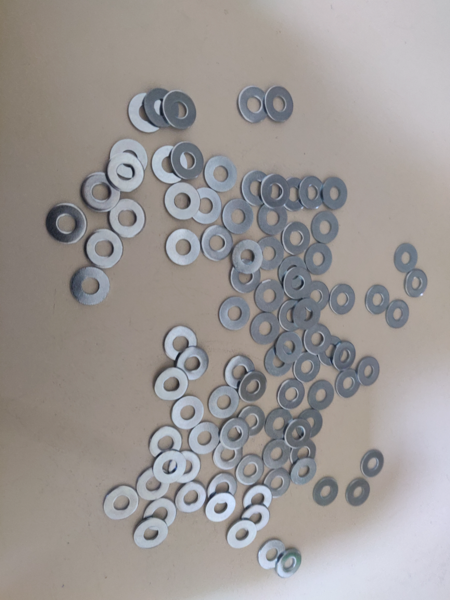circle: (45, 203, 88, 246), (80, 172, 122, 213), (107, 139, 148, 179), (108, 197, 147, 239), (84, 230, 124, 270), (70, 267, 110, 307), (128, 93, 165, 133), (164, 182, 201, 222), (161, 92, 198, 131), (106, 156, 145, 193), (145, 88, 180, 129), (169, 143, 205, 181), (165, 229, 201, 267), (102, 486, 140, 522), (173, 347, 210, 383), (162, 326, 199, 362), (153, 146, 188, 184), (141, 497, 179, 532), (134, 468, 172, 502), (170, 396, 205, 432), (148, 426, 184, 461), (241, 170, 274, 208), (189, 189, 223, 225), (252, 278, 286, 314), (253, 236, 287, 272), (153, 368, 189, 402), (167, 451, 203, 485), (237, 87, 270, 124), (205, 156, 238, 193), (231, 239, 264, 276), (200, 227, 234, 262), (260, 468, 294, 503), (218, 297, 251, 333), (132, 518, 169, 550), (188, 422, 222, 456), (152, 451, 186, 485), (256, 203, 291, 236), (277, 256, 310, 291), (259, 174, 291, 210), (263, 87, 294, 124), (225, 519, 259, 552), (222, 200, 254, 235), (280, 176, 310, 213), (261, 438, 294, 471), (281, 222, 313, 256), (301, 323, 333, 357), (222, 355, 254, 389), (264, 409, 296, 443), (174, 482, 208, 514), (310, 212, 342, 245), (242, 483, 274, 516), (208, 387, 240, 420), (235, 454, 267, 487), (207, 472, 239, 505), (230, 261, 261, 295), (211, 441, 245, 472), (250, 313, 281, 346), (274, 331, 305, 364), (204, 493, 237, 524), (328, 283, 358, 317), (304, 242, 333, 277), (264, 344, 294, 377), (257, 539, 287, 572), (293, 350, 322, 384), (298, 175, 326, 210), (236, 406, 266, 438), (321, 177, 349, 211), (237, 372, 268, 402), (292, 299, 321, 331), (334, 368, 363, 400), (288, 438, 317, 470), (313, 476, 341, 509), (295, 407, 323, 440), (318, 335, 345, 369), (240, 505, 271, 534), (284, 268, 312, 300), (277, 379, 305, 411), (365, 284, 392, 317), (302, 281, 330, 312), (276, 548, 303, 580), (283, 419, 312, 448), (289, 458, 318, 487), (393, 243, 419, 275), (332, 341, 358, 372), (356, 356, 381, 388), (346, 478, 372, 507), (404, 269, 429, 299), (385, 300, 410, 330), (361, 450, 386, 480), (309, 381, 334, 411)
